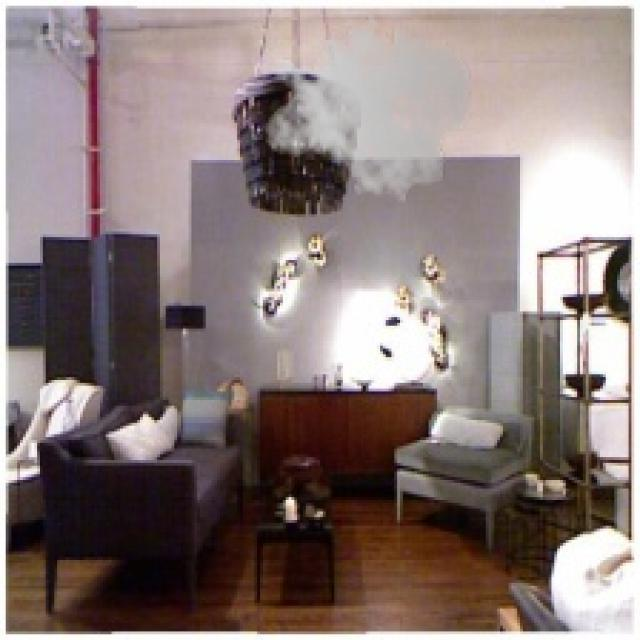Smoke: (262, 2, 474, 208)
